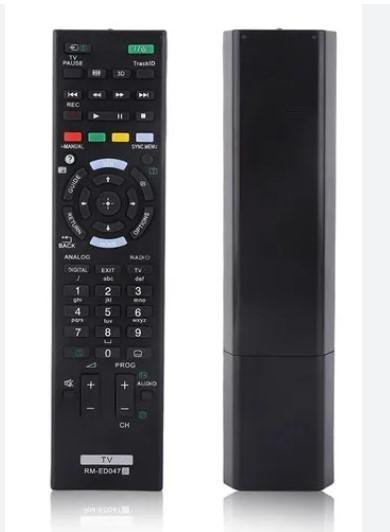Remote control: (50, 31, 167, 496), (222, 29, 338, 496)
